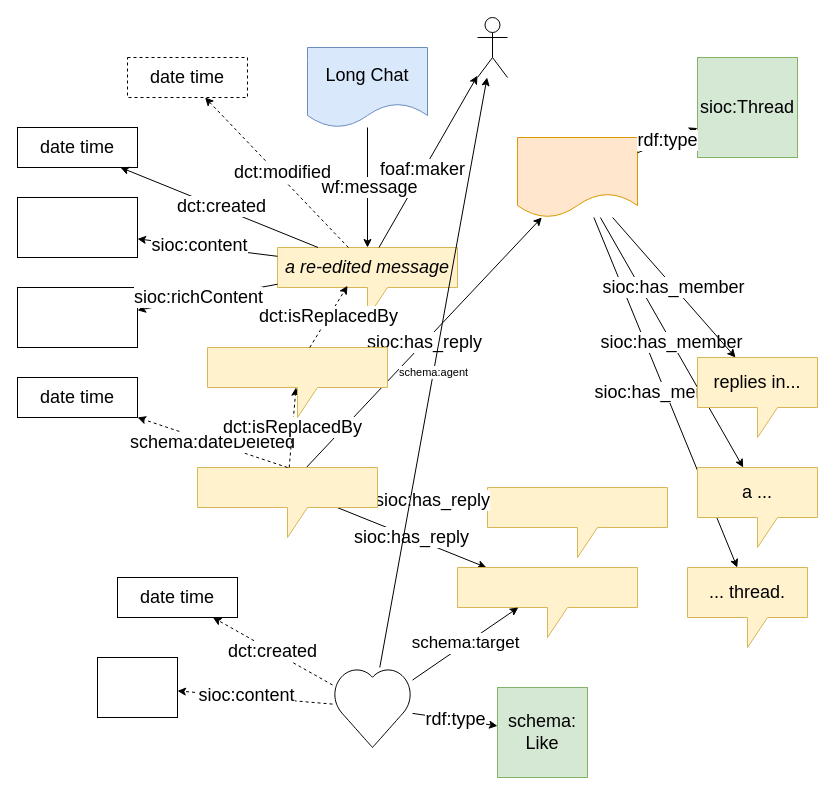
This 835x795 diagram has some shape labels left out. The shapes that lost their labels are listed below. From the top down, each one's box as (x1, y1, x2, y2) in pixels, then its label:
(476, 16, 508, 78): sender
(16, 196, 138, 258): text
(16, 286, 138, 348): html
(206, 346, 388, 418): an edited message
(196, 466, 378, 538): The original message
(96, 656, 178, 718): emoji
